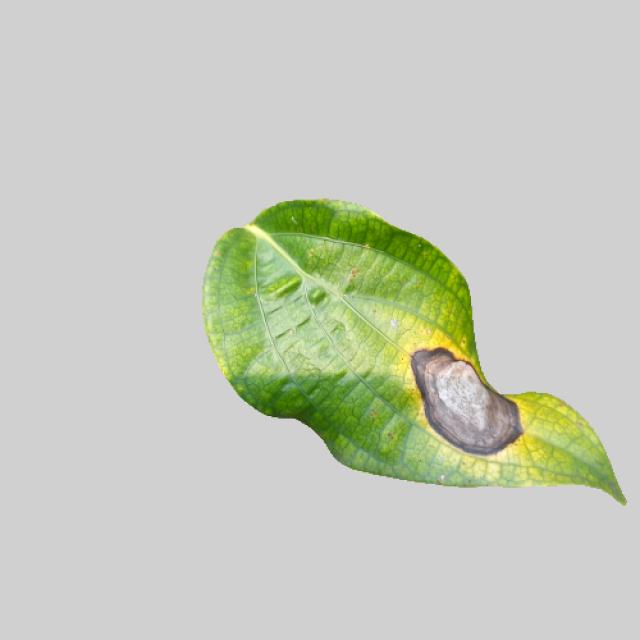leaf-blight: (187, 194, 623, 507)
